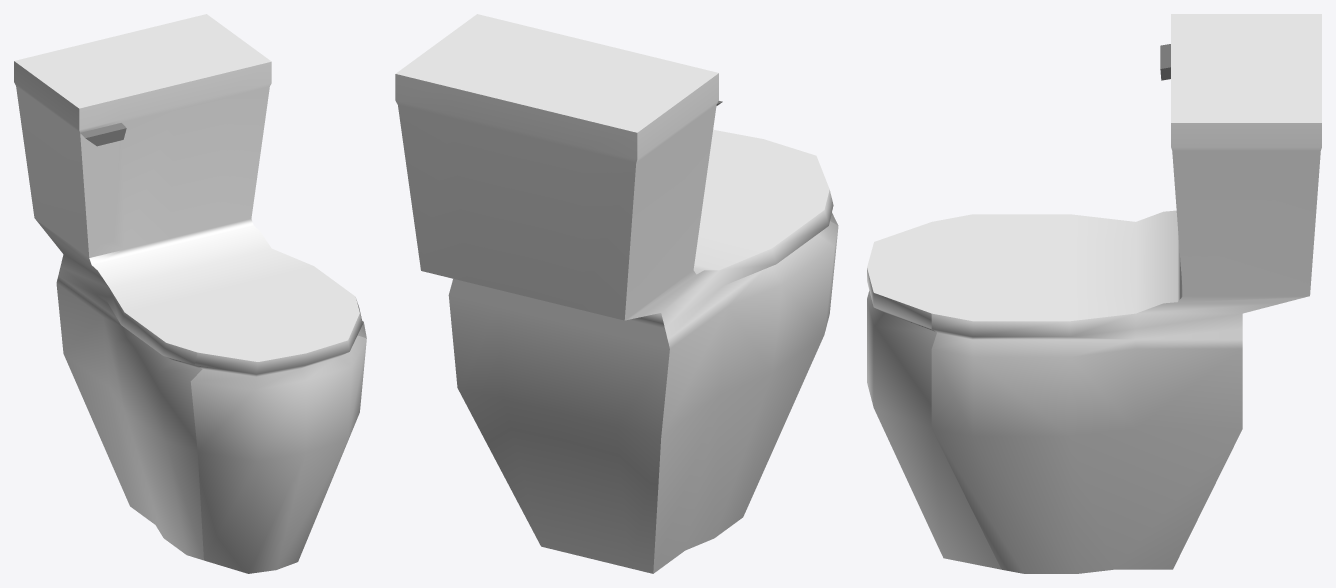
File: toilet_1.fbx
3 views of the same model, side by side, from view 1: azimuth 30°, elevation 25°; view 2: azimuth 150°, elevation 25°; view 3: azimuth 270°, elevation 25° (orthographic). The views are drawn at different scales.
Visible parts, largest first — view 1: pCube1; view 2: pCube1; view 3: pCube1.
Part boxes in pixels (x1,y1,x2,y2): pCube1: (14,14,366,573); pCube1: (395,14,838,573); pCube1: (867,14,1321,573).
Bounding box in the file's own units: 1.27 × 2.42 × 2.1.
